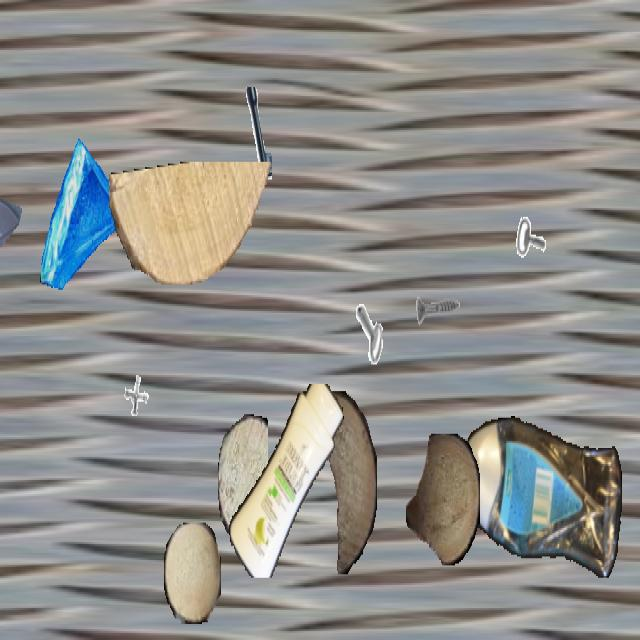glass: (38, 137, 132, 304), (0, 162, 23, 290)
metal: (214, 87, 272, 190), (355, 270, 409, 366), (414, 270, 460, 352), (118, 361, 158, 432), (516, 192, 556, 263)
plastic: (461, 414, 621, 585), (226, 384, 348, 576)
wood: (109, 162, 275, 282), (305, 391, 377, 573), (406, 434, 480, 565), (218, 414, 268, 542), (164, 523, 220, 622)
